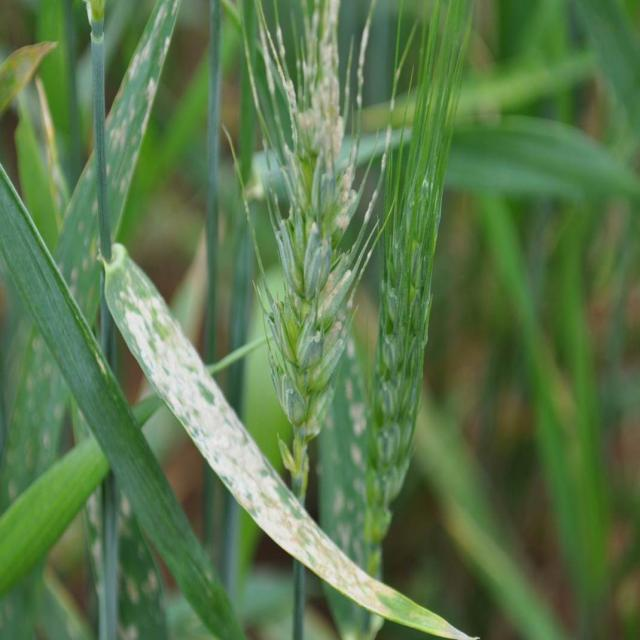wheat-powdery-mildew: (109, 274, 391, 622), (103, 5, 180, 242)
